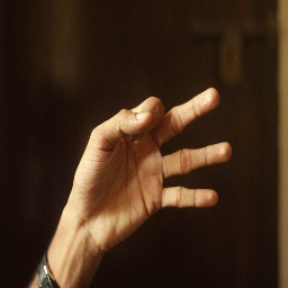K: (72, 85, 235, 241)
